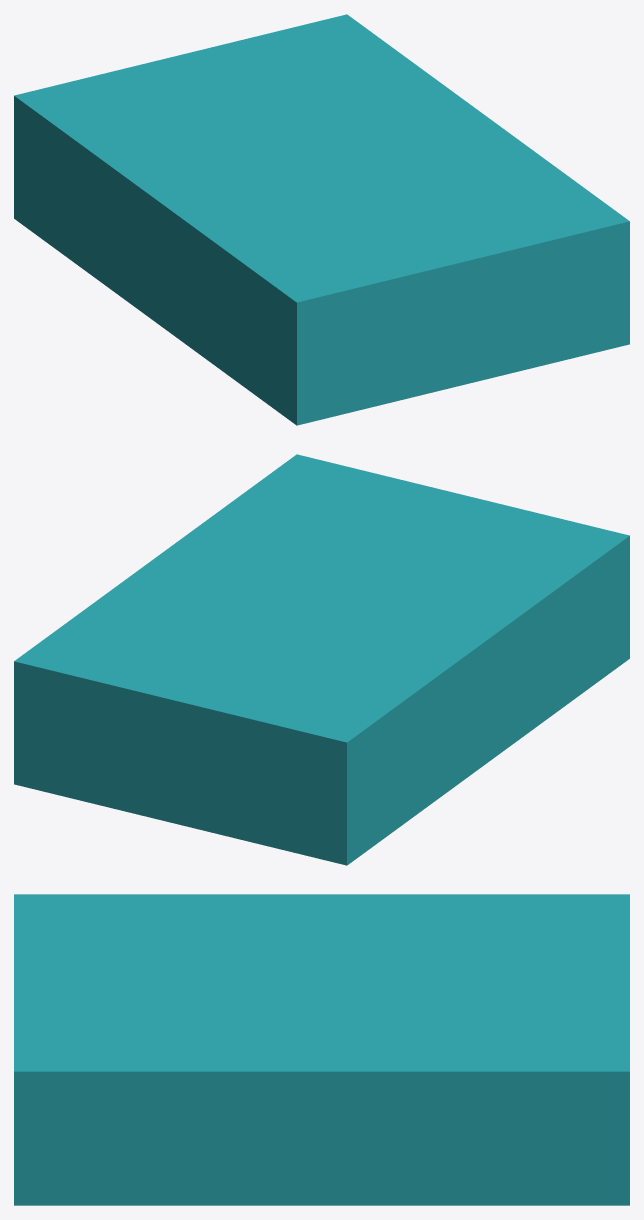
The model's file is battery-home.glb.
3 views of the same model, one above another, from view 1: azimuth 30°, elevation 25°; view 2: azimuth 150°, elevation 25°; view 3: azimuth 270°, elevation 25° (orthographic). The views are drawn at different scales.
Visible parts, largest first — view 1: world; view 2: world; view 3: world.
Part boxes in pixels (<box>): world: <box>14,14,629,425</box>; world: <box>14,454,629,865</box>; world: <box>14,894,629,1205</box>.
Size of the model in its own units: 0.68 by 0.275 by 1.
